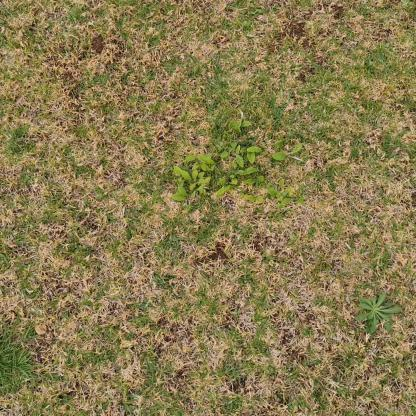Weeds: (173, 120, 306, 212), (355, 291, 402, 335)
